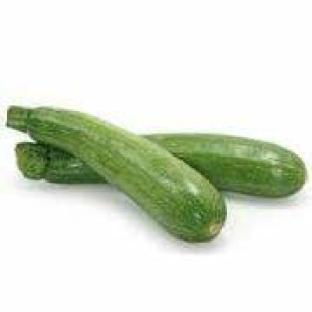Zucchini: (7, 106, 225, 240), (146, 134, 306, 197)
